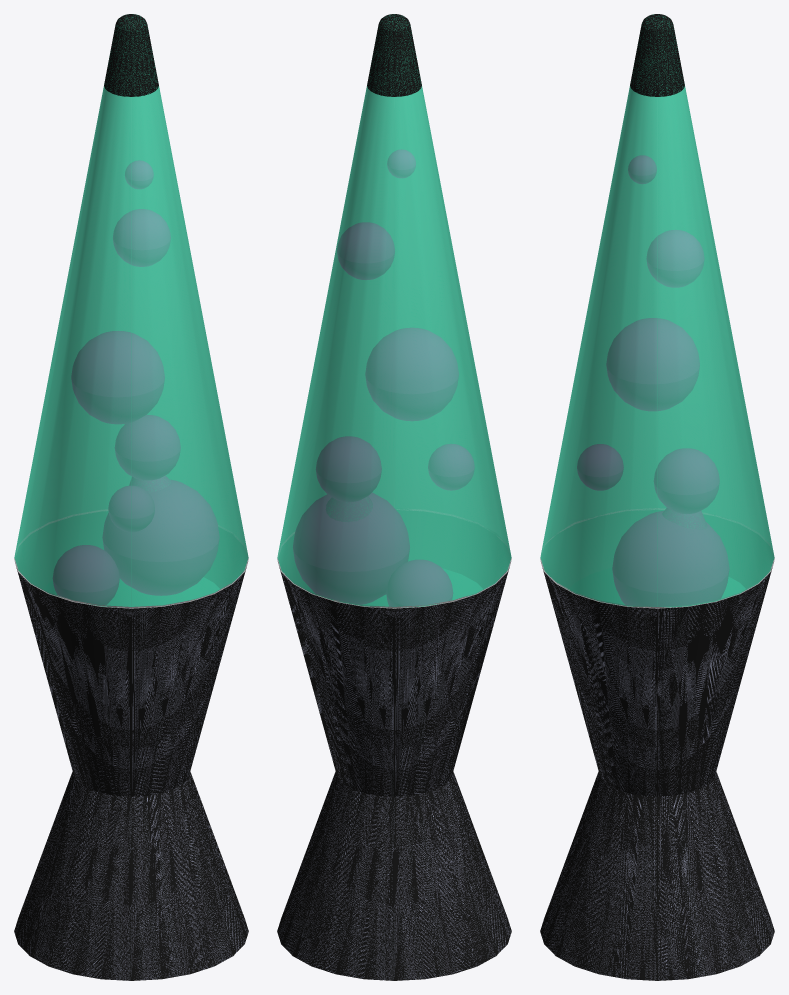
3 renders of one model, left to right at view 1: azimuth 30°, elevation 25°; view 2: azimuth 150°, elevation 25°; view 3: azimuth 270°, elevation 25°, orthographic.
Visible parts, largest first — view 1: group_0 (×4), SketchUp, group_8, group_2, group_4, group_3, group_5, group_6, group_7; view 2: group_0 (×4), SketchUp, group_8, group_2, group_4, group_5, group_3, group_6, group_1, group_7; view 3: group_0 (×4), SketchUp, group_8, group_2, group_4, group_5, group_6, group_7, group_1.
Boxes of the visible parts, x1=… form: group_0 (×4): x1=14, y1=14, x2=248, y2=607; SketchUp: x1=14, y1=562, x2=248, y2=980; group_8: x1=103, y1=480, x2=218, y2=595; group_2: x1=72, y1=331, x2=164, y2=423; group_4: x1=115, y1=415, x2=180, y2=479; group_3: x1=53, y1=545, x2=118, y2=604; group_5: x1=113, y1=209, x2=170, y2=266; group_6: x1=109, y1=486, x2=154, y2=531; group_7: x1=125, y1=161, x2=153, y2=188; group_0 (×4): x1=277, y1=14, x2=511, y2=607; SketchUp: x1=277, y1=562, x2=511, y2=980; group_8: x1=293, y1=493, x2=409, y2=604; group_2: x1=366, y1=328, x2=458, y2=420; group_4: x1=316, y1=437, x2=381, y2=501; group_5: x1=337, y1=223, x2=394, y2=279; group_3: x1=387, y1=560, x2=452, y2=606; group_6: x1=428, y1=444, x2=474, y2=489; group_1: x1=326, y1=496, x2=372, y2=521; group_7: x1=387, y1=150, x2=415, y2=177; group_0 (×4): x1=540, y1=14, x2=774, y2=607; SketchUp: x1=540, y1=562, x2=774, y2=980; group_8: x1=613, y1=511, x2=728, y2=606; group_2: x1=607, y1=318, x2=699, y2=410; group_4: x1=654, y1=449, x2=719, y2=513; group_5: x1=647, y1=230, x2=703, y2=286; group_6: x1=577, y1=444, x2=623, y2=489; group_7: x1=628, y1=156, x2=656, y2=183; group_1: x1=663, y1=508, x2=706, y2=529.
Bounding box in the file's own units: 4 × 4 × 17.17.
